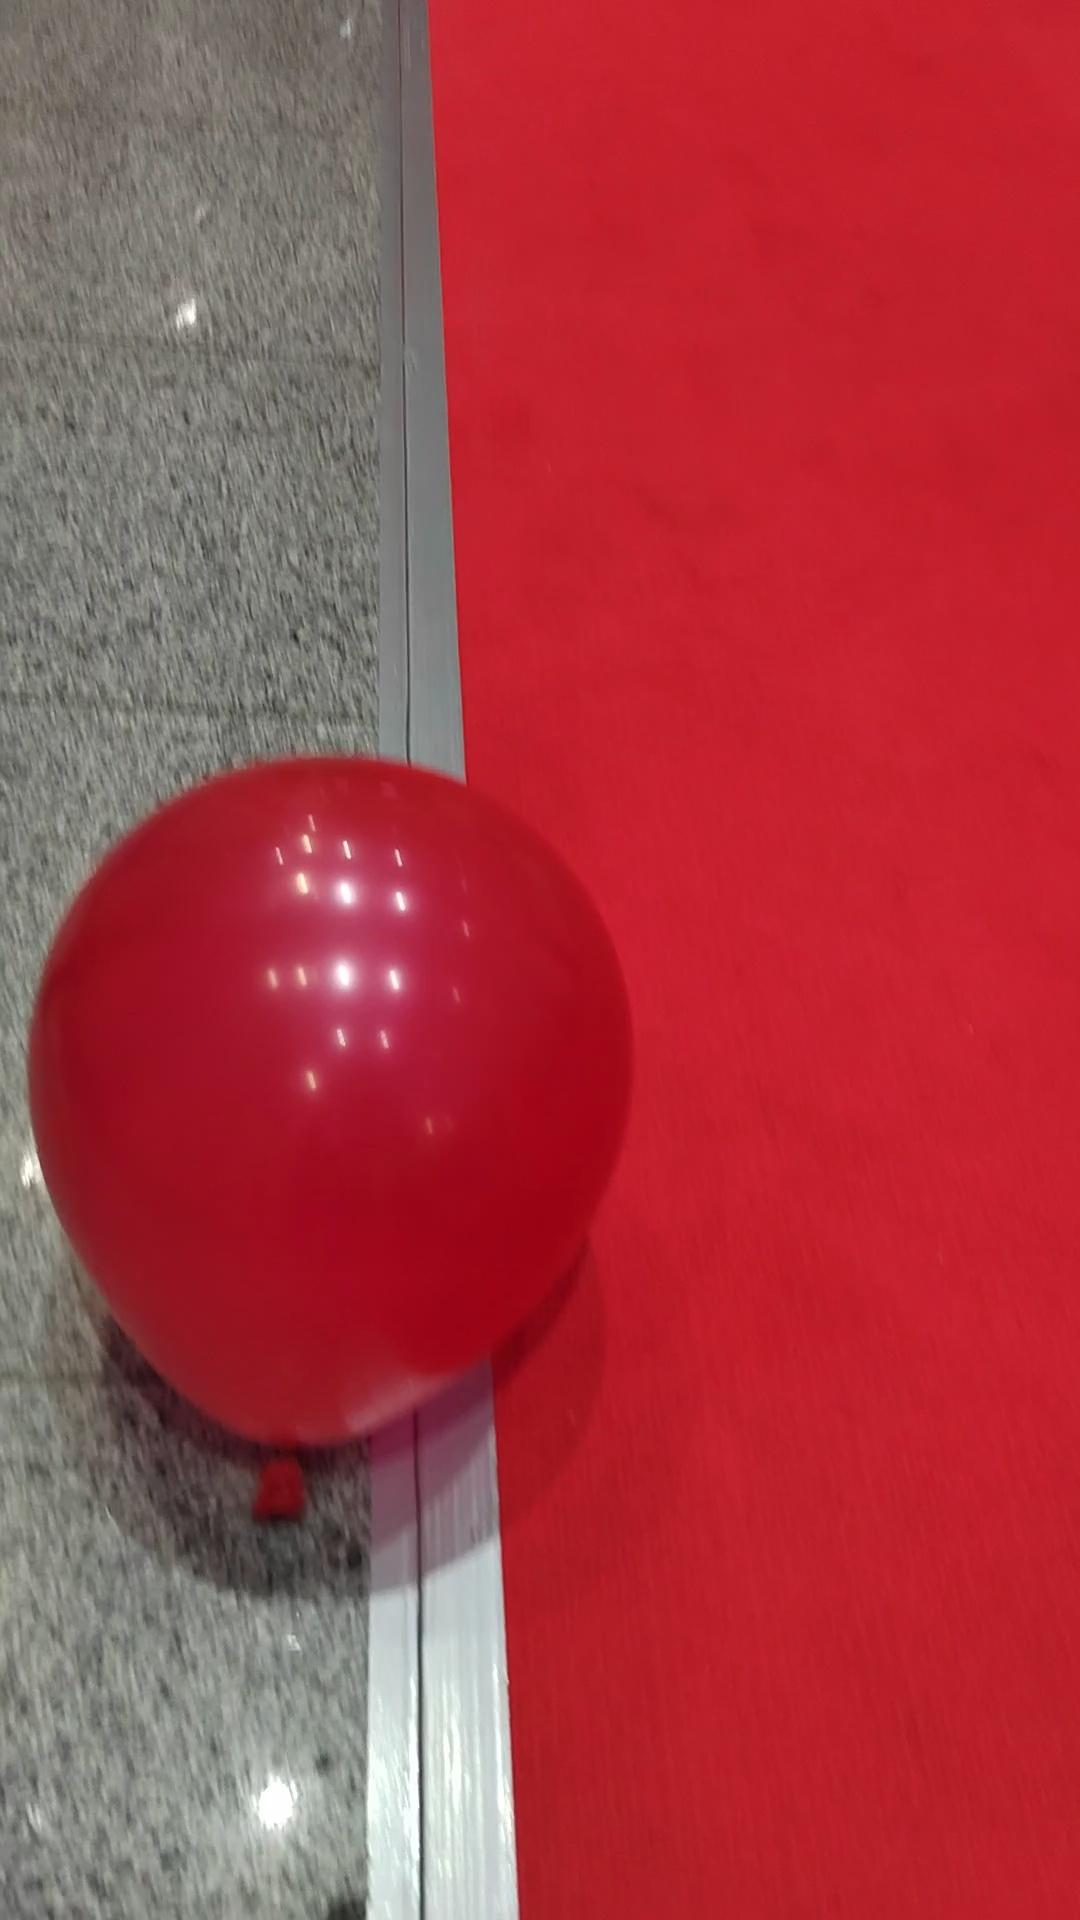red: (22, 748, 630, 1457)
